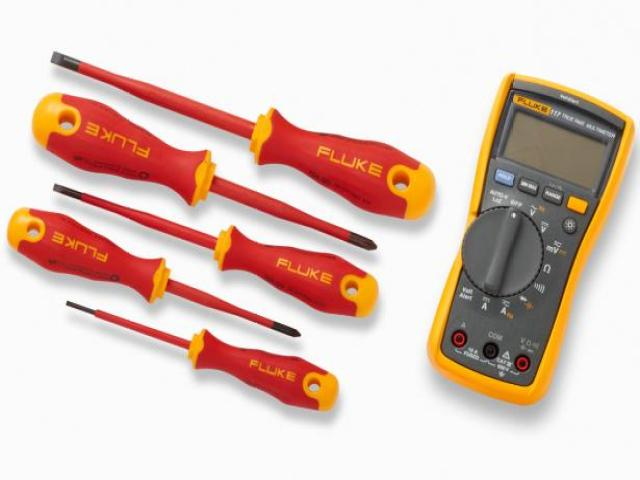Screwdriver: (52, 52, 434, 219), (35, 93, 375, 250), (54, 184, 378, 316), (9, 208, 300, 336), (66, 303, 339, 411)
